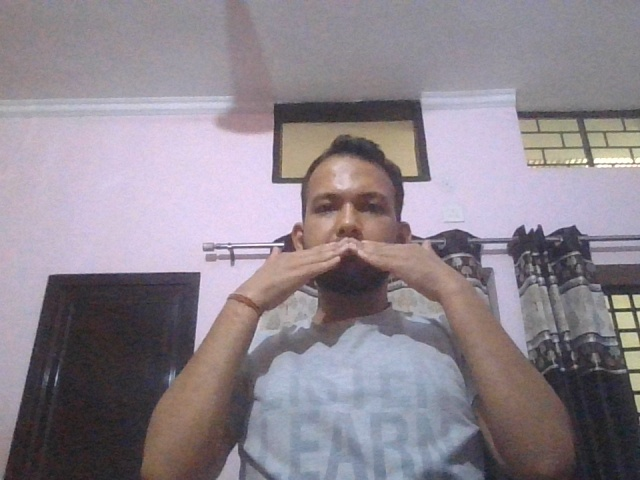thanks: (229, 236, 490, 311)
